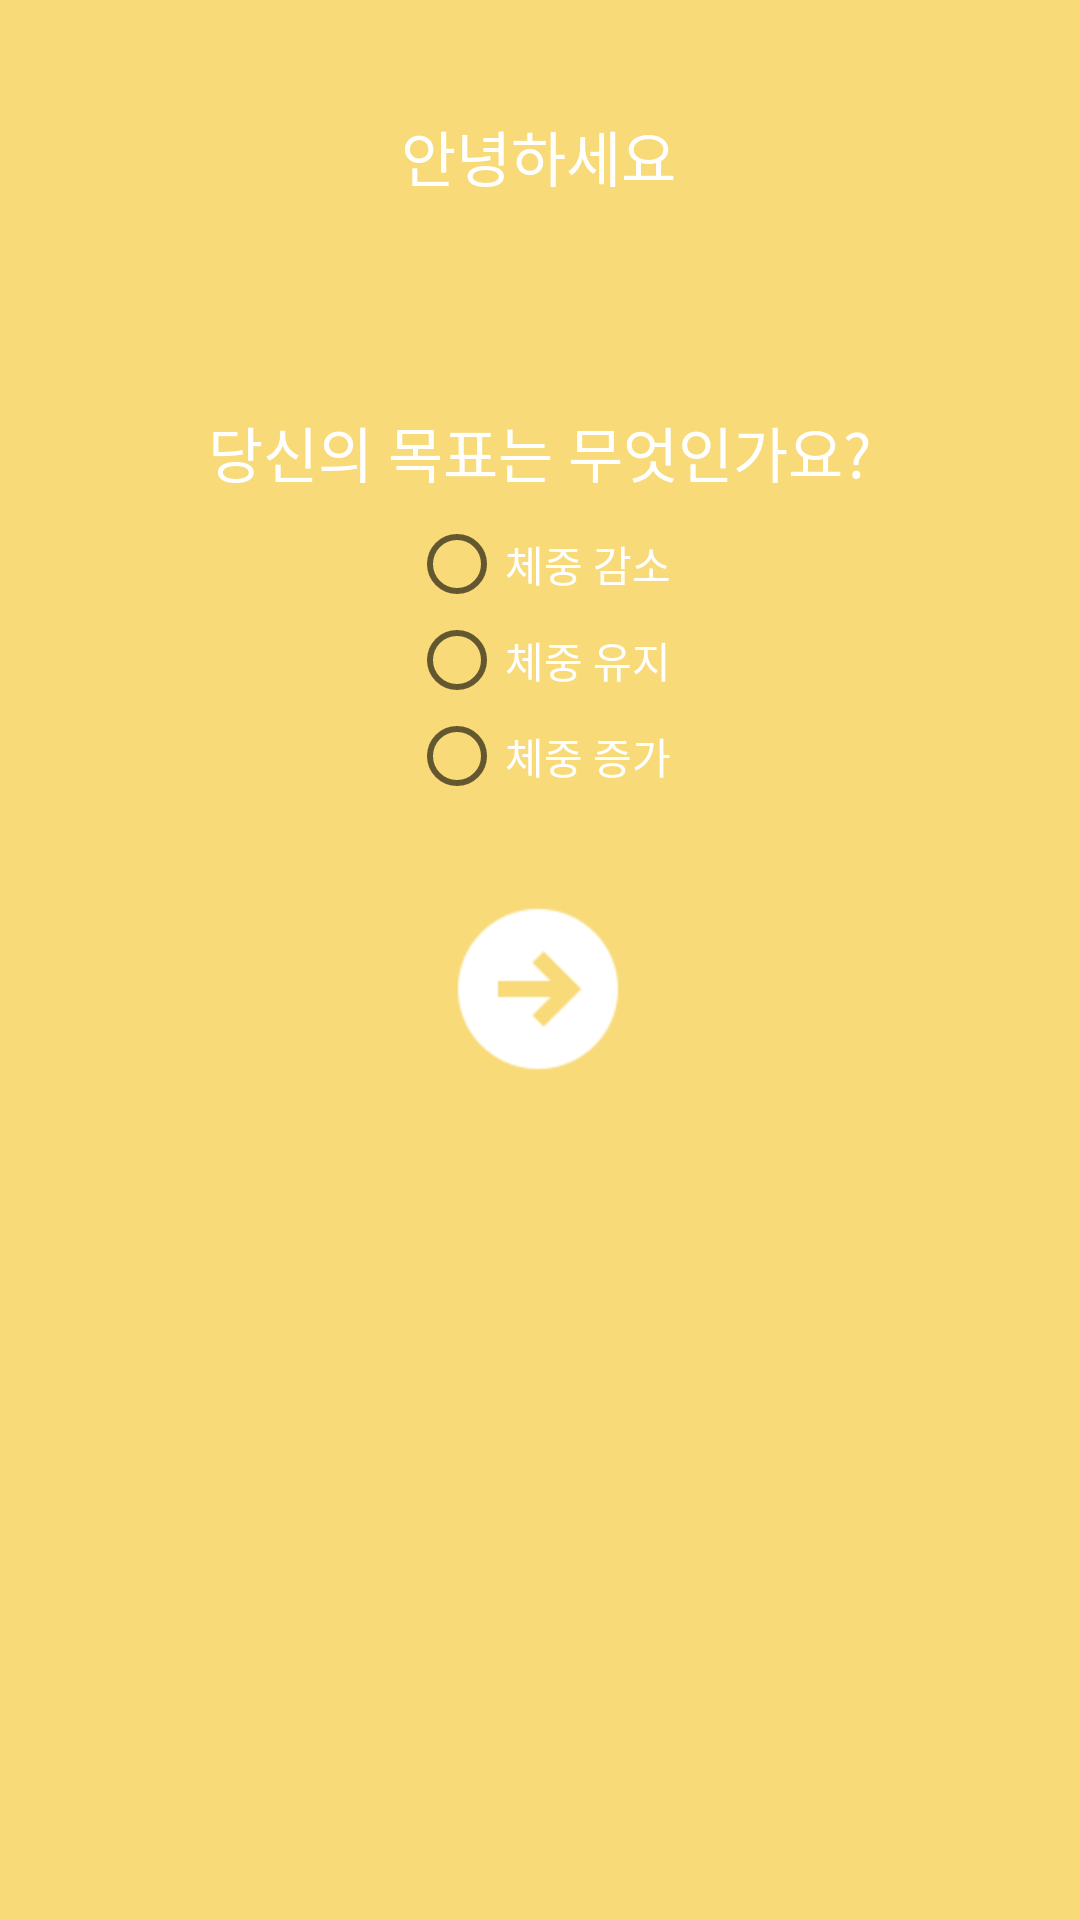

Icon bounding boxes for this 1080x1920 phone screenshot, format (x1, y1, x2, y2):
arrow: (457, 908, 619, 1070)
